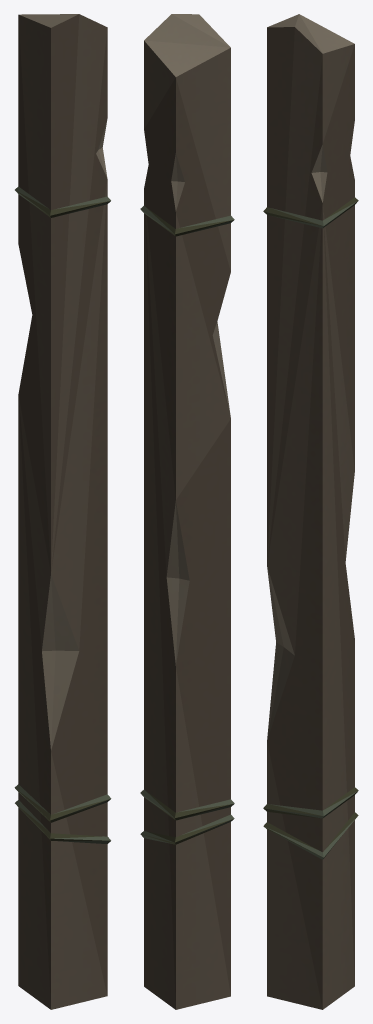
The model's file is Wood_8.fbx.
3 views of the same model, side by side, from view 1: azimuth 30°, elevation 25°; view 2: azimuth 210°, elevation 25°; view 3: azimuth 330°, elevation 25° (orthographic). The views are drawn at different scales.
Parts seen in each view (by area): view 1: polySurface1413; view 2: polySurface1413; view 3: polySurface1413.
Boxes of the visible parts, left/top/right/bottom form: polySurface1413: left=14, top=14, right=111, bottom=1009; polySurface1413: left=140, top=14, right=234, bottom=1009; polySurface1413: left=263, top=14, right=358, bottom=1009.
Size of the model in its own units: 0.3597 by 5.52 by 0.3597.
